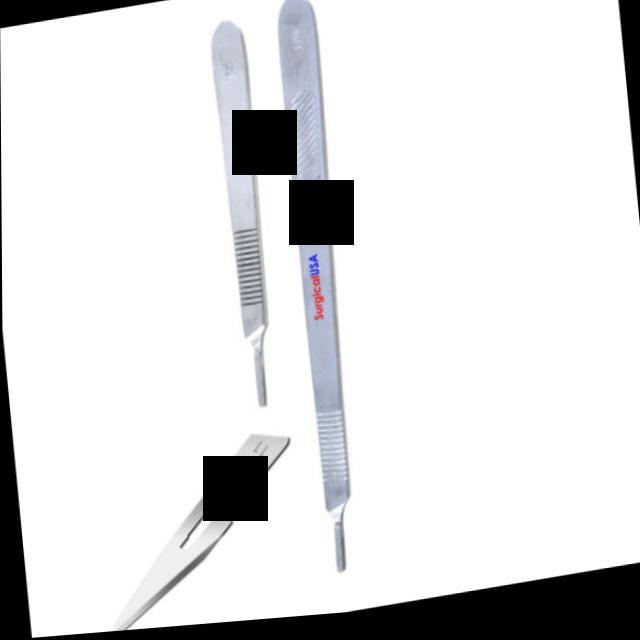Knife handle: (258, 0, 382, 592), (200, 13, 296, 429)
Surgical blade: (76, 429, 304, 635)
